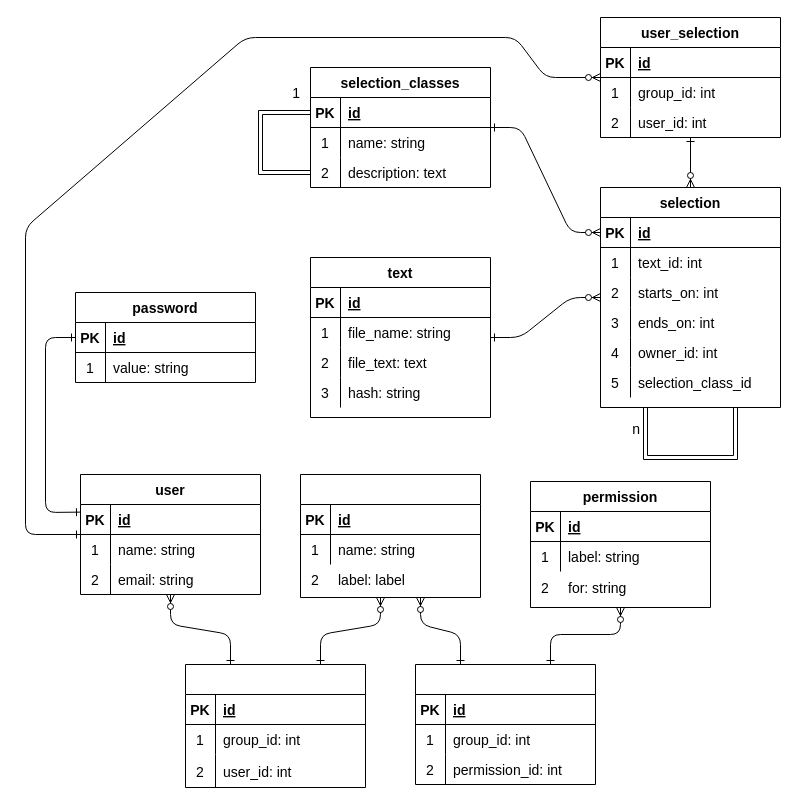
Image size: 798x805. Some labels were removed from this diagram. The box of each missing label's shape, as (x1, y1, x2, y2) in pixels:
group: (300, 474, 480, 598)
group_permission: (414, 664, 596, 784)
group_user: (184, 664, 366, 788)
